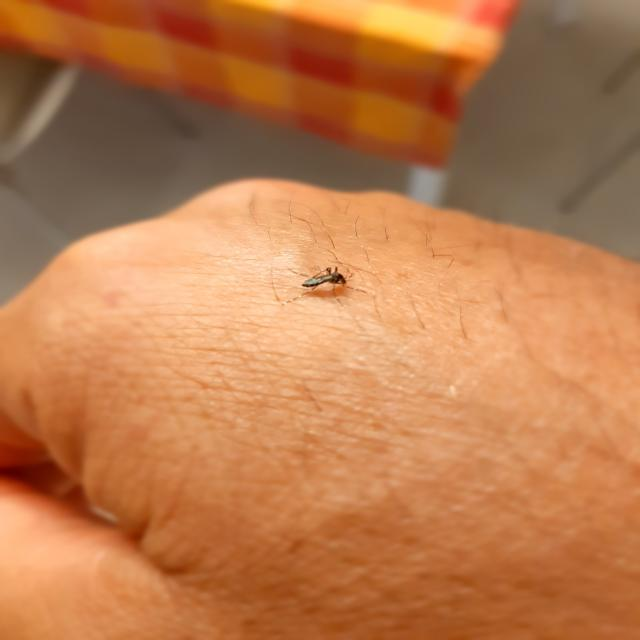albopictus: (266, 252, 376, 309)
